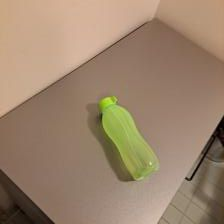bottle: (94, 91, 164, 181)
